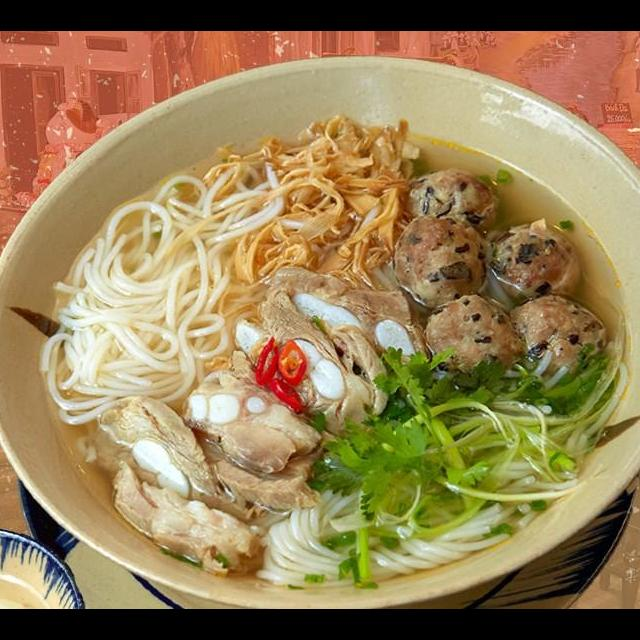bun: (30, 158, 294, 428), (246, 463, 524, 598)
bun moc: (13, 67, 640, 609)
thit heo: (214, 285, 393, 446), (170, 344, 334, 484), (82, 391, 246, 527), (104, 455, 270, 583), (252, 262, 428, 380)
vien moc: (502, 289, 614, 387), (422, 284, 528, 382), (386, 214, 494, 309), (486, 214, 590, 305), (402, 164, 504, 238)
